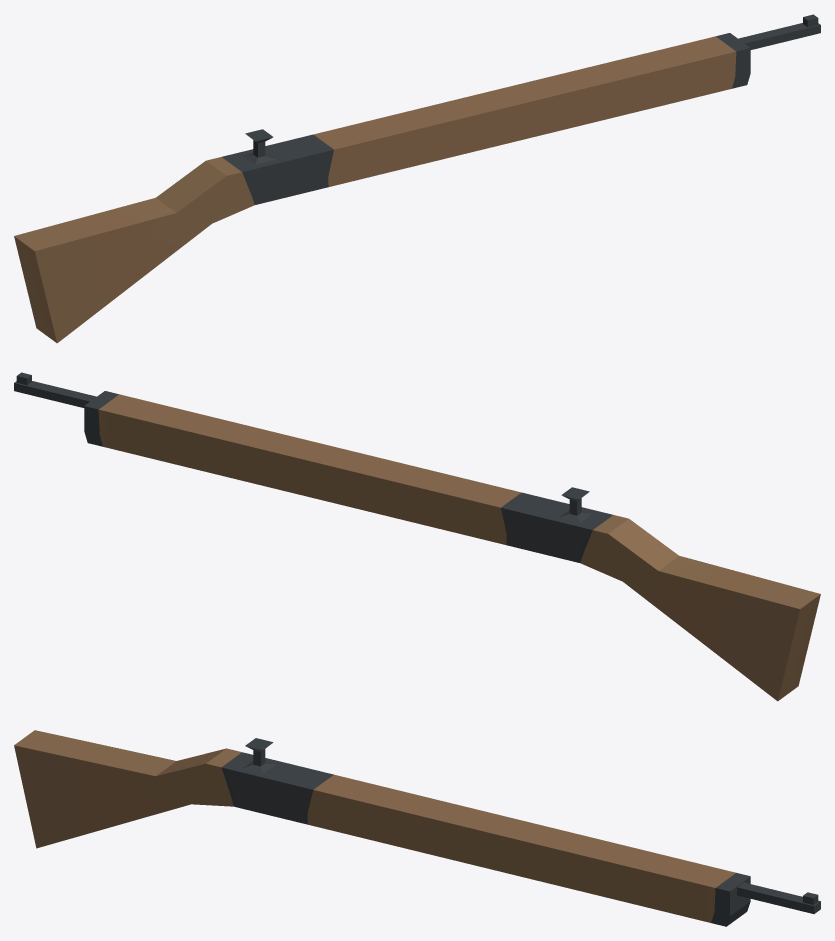
The model's file is Rifle.fbx.
3 renders of one model, top to bottom at view 1: azimuth 30°, elevation 25°; view 2: azimuth 150°, elevation 25°; view 3: azimuth 330°, elevation 25°, orthographic.
Visible parts, largest first — view 1: rifle; view 2: rifle; view 3: rifle.
Boxes of the visible parts, x1,y1,x2,y2 form: rifle: [14, 14, 820, 343]; rifle: [14, 372, 820, 701]; rifle: [14, 730, 820, 926].
Size of the model in its own units: 66.79 by 11.96 by 3.04.
